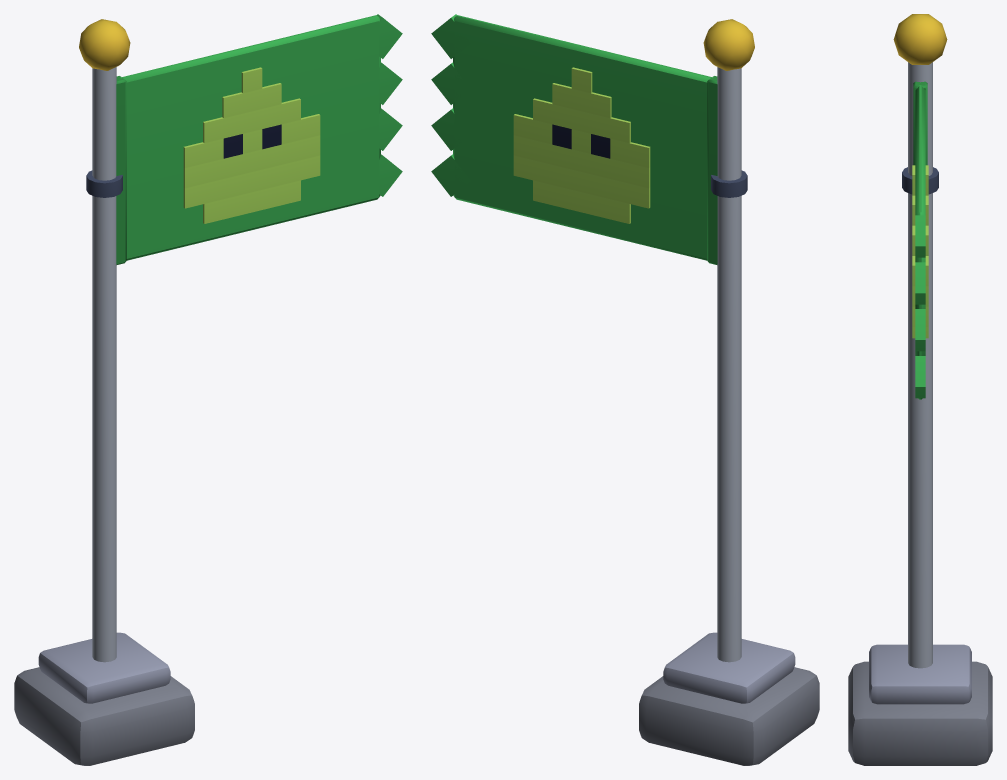
Rendered from lo_flag_schleim.glb.
The picture shows the model from 3 angles, left to right: view 1: azimuth 30°, elevation 25°; view 2: azimuth 150°, elevation 25°; view 3: azimuth 270°, elevation 25°; orthographic projection.
Parts seen in each view (by area): view 1: sway_cloth, body; view 2: sway_cloth, body; view 3: body, sway_cloth.
Boxes of the visible parts, x1,y1,x2,y2 form: sway_cloth: [116, 14, 402, 264]; body: [14, 19, 194, 765]; sway_cloth: [431, 14, 717, 264]; body: [639, 19, 819, 765]; body: [848, 14, 992, 765]; sway_cloth: [912, 81, 928, 399].
Size of the model in its own units: 2.03 by 3.88 by 0.7.
